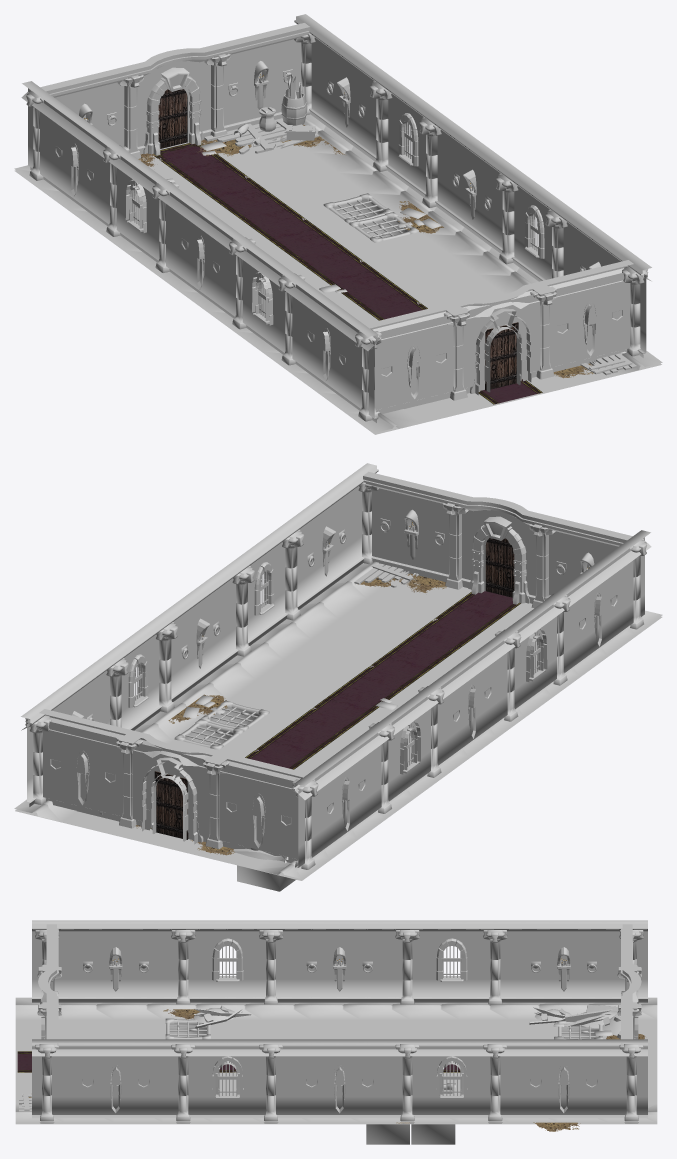
3 renders of one model, top to bottom at view 1: azimuth 30°, elevation 25°; view 2: azimuth 150°, elevation 25°; view 3: azimuth 270°, elevation 25°, orthographic. The views are drawn at different scales.
Parts seen in each view (by area): view 1: sence_qiang_01, sence_dimian, sence_qiang_02, sence_men_02, sence_men_01, sence_ditang, sence_mu_01, sence_diku, sence_men_02a, sence_men_01a, sence_tu, sence_dimian_shikuai; view 2: sence_dimian, sence_qiang_01, sence_qiang_02, sence_men_01, sence_men_02, sence_ditang, sence_diku, sence_men_01a, sence_men_02a, sence_tu, sence_mu_01; view 3: sence_qiang_02, sence_qiang_01, sence_dimian, sence_diku, sence_mu_01, sence_men_02, sence_men_01, sence_tu, sence_ditang.
Boxes of the visible parts, x1,y1,x2,y2 form: sence_qiang_01: (21, 81, 381, 422); sence_dimian: (14, 114, 662, 434); sence_qiang_02: (294, 14, 651, 357); sence_men_02: (364, 260, 633, 413); sence_men_01: (40, 23, 310, 158); sence_ditang: (154, 143, 542, 404); sence_mu_01: (135, 74, 636, 375); sence_diku: (136, 191, 418, 242); sence_men_02a: (485, 322, 518, 390); sence_men_01a: (158, 89, 187, 148); sence_tu: (138, 124, 593, 378); sence_dimian_shikuai: (136, 141, 441, 293); sence_dimian: (14, 561, 662, 880); sence_qiang_01: (292, 530, 651, 872); sence_qiang_02: (21, 463, 378, 806); sence_men_01: (39, 709, 308, 862); sence_men_02: (363, 471, 632, 608); sence_ditang: (150, 591, 520, 828); sence_diku: (174, 700, 295, 891); sence_men_01a: (154, 771, 188, 839); sence_men_02a: (485, 538, 514, 597); sence_tu: (136, 573, 446, 855); sence_mu_01: (99, 563, 418, 863); sence_qiang_02: (32, 1039, 647, 1123); sence_qiang_01: (32, 920, 647, 1005); sence_dimian: (15, 997, 657, 1124); sence_diku: (165, 1018, 602, 1144); sence_mu_01: (19, 1004, 620, 1111); sence_men_02: (37, 924, 61, 1045); sence_men_01: (617, 924, 641, 1045); sence_tu: (28, 1009, 645, 1131); sence_ditang: (17, 1051, 460, 1072).
Bounding box in the file's own units: 13.59 × 5.47 × 26.45.
